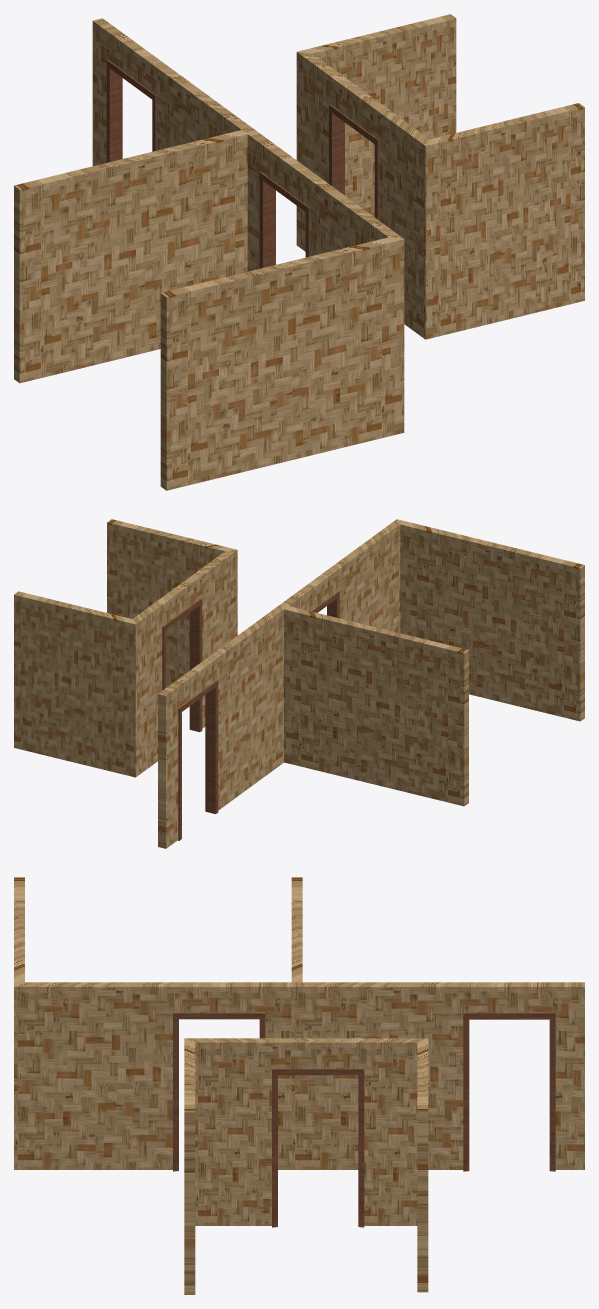
File: R2_Tengah.fbx
3 views of the same model, one above another, from view 1: azimuth 30°, elevation 25°; view 2: azimuth 150°, elevation 25°; view 3: azimuth 270°, elevation 25° (orthographic). The views are drawn at different scales.
Parts seen in each view (by area): view 1: Cube.169; view 2: Cube.169; view 3: Cube.169.
Part boxes in pixels (x1,y1,x2,y2): Cube.169: (14, 14, 584, 490); Cube.169: (14, 519, 584, 848); Cube.169: (14, 877, 584, 1294).
Bounding box in the file's own units: 15.16 × 5.54 × 15.58.
Materials: 2 (2 with a texture image).
